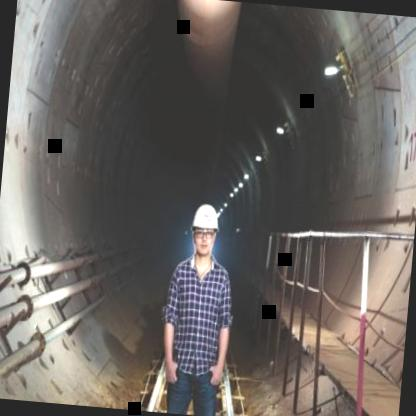helmet: (188, 198, 221, 262)
